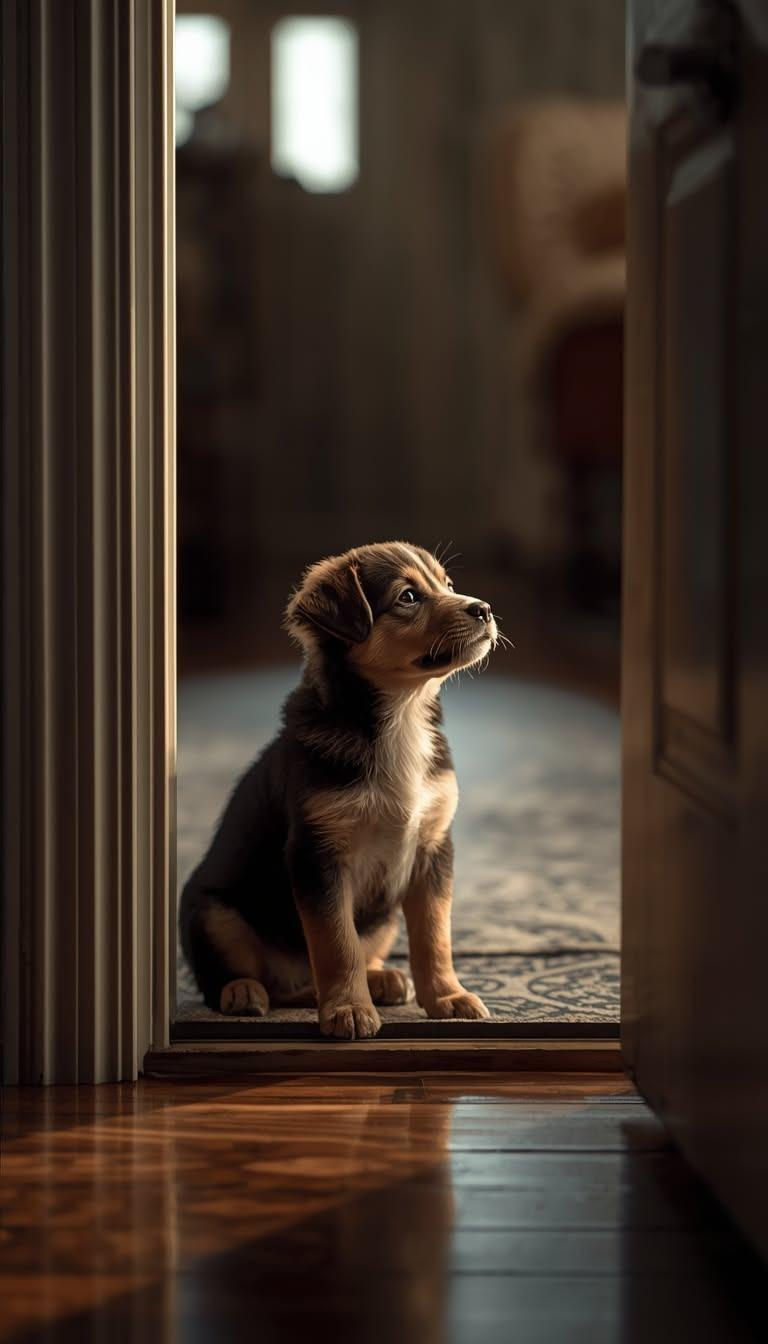puppy-dog: (175, 540, 505, 1040)
